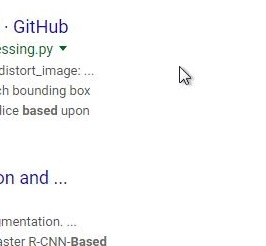cursor: (177, 65, 192, 85)
